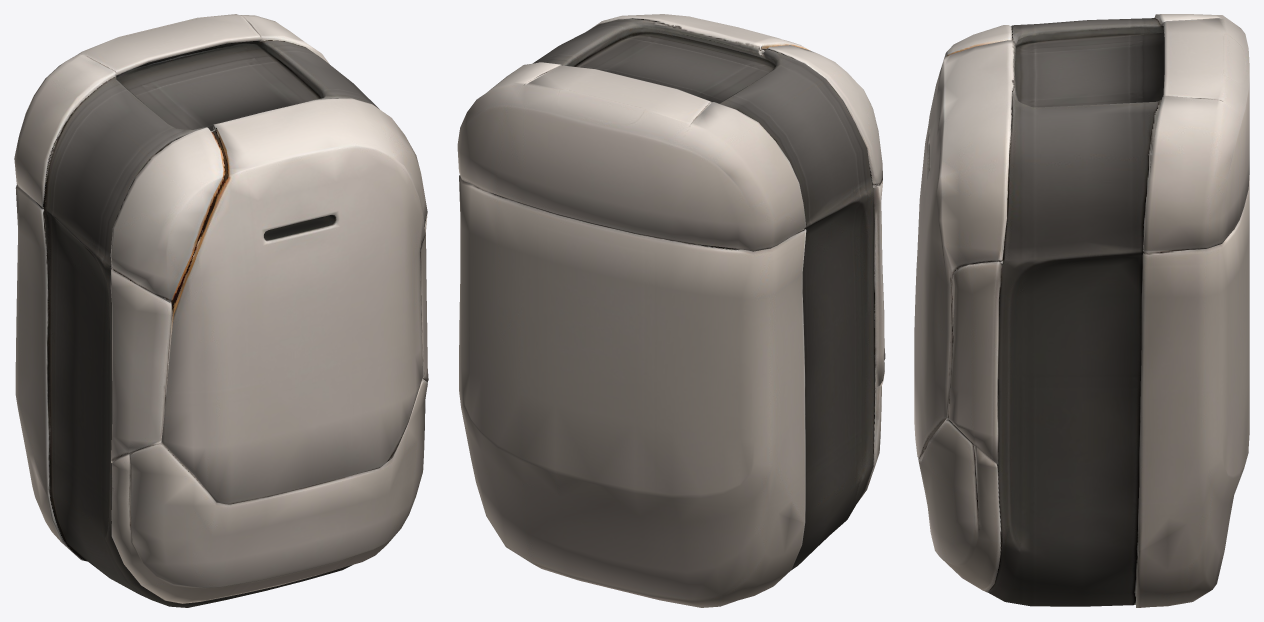
The picture shows the model from 3 angles, left to right: view 1: azimuth 30°, elevation 25°; view 2: azimuth 150°, elevation 25°; view 3: azimuth 270°, elevation 25°; orthographic projection. The views are drawn at different scales.
Visible parts, largest first — view 1: tripo_node_cef24b0c-e318-4f79-bcd8-3c24e99bee3a; view 2: tripo_node_cef24b0c-e318-4f79-bcd8-3c24e99bee3a; view 3: tripo_node_cef24b0c-e318-4f79-bcd8-3c24e99bee3a.
Boxes of the visible parts, <box> form: tripo_node_cef24b0c-e318-4f79-bcd8-3c24e99bee3a: <box>14,14,428,607</box>; tripo_node_cef24b0c-e318-4f79-bcd8-3c24e99bee3a: <box>457,14,885,607</box>; tripo_node_cef24b0c-e318-4f79-bcd8-3c24e99bee3a: <box>914,14,1249,607</box>.
Size of the model in its own units: 0.6647 by 0.9789 by 0.5881.
Materials: 1 (1 with a texture image).
